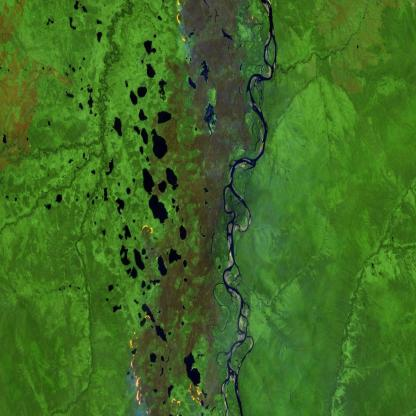fire: (128, 311, 155, 416), (172, 0, 189, 49), (187, 377, 211, 411), (137, 220, 155, 240), (168, 395, 182, 410)
